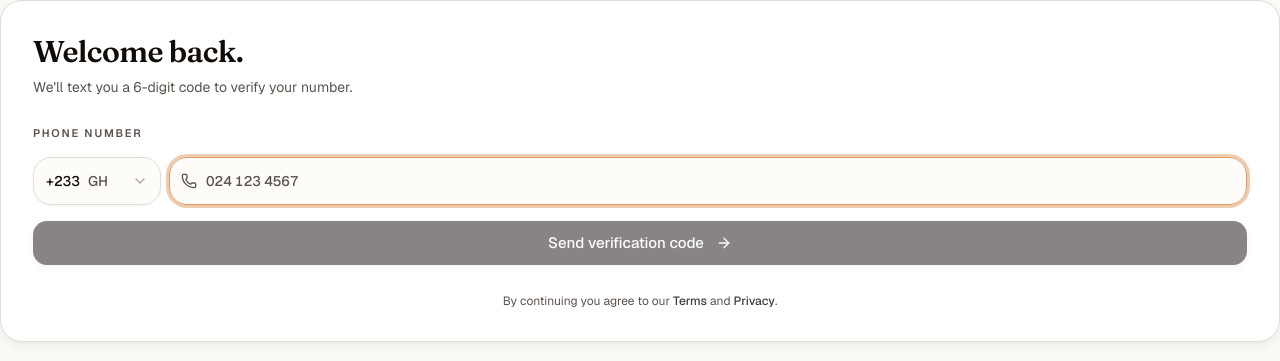
Test: PhoneAuthPage › disables submit until a valid Ghana number is entered
Expected: the button "Send verification code" is disabled, [33,221,1247,265]
Type "0241234567" into the field labelled "Phone number". click: (708, 181)
box: [169,157,1247,205]
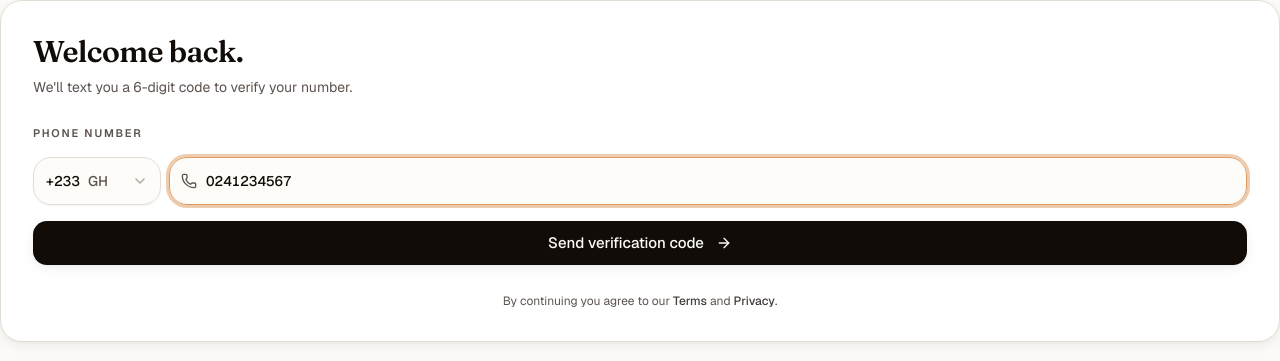
Expected: the button "Send verification code" is enabled, [33,221,1247,265]
